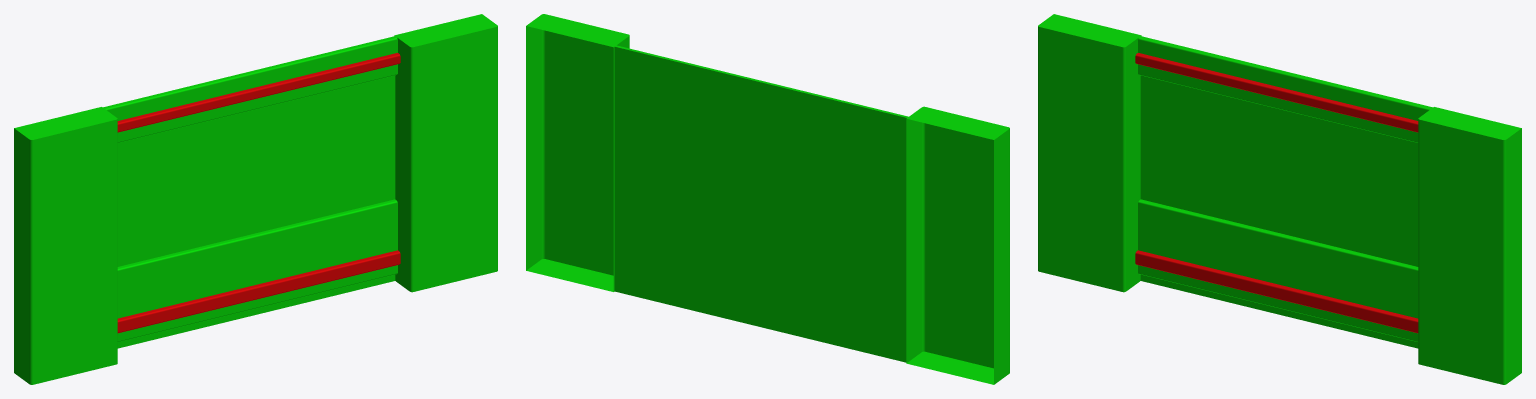
File: wall 1.fbx
3 renders of one model, left to right at view 1: azimuth 30°, elevation 25°; view 2: azimuth 150°, elevation 25°; view 3: azimuth 330°, elevation 25°, orthographic.
Visible parts, largest first — view 1: wall.001; view 2: wall.001; view 3: wall.001.
Boxes of the visible parts, x1=… form: wall.001: x1=14, y1=14, x2=497, y2=384; wall.001: x1=526, y1=14, x2=1009, y2=384; wall.001: x1=1038, y1=14, x2=1521, y2=384.
Size of the model in its own units: 600 by 300 by 37.5.
